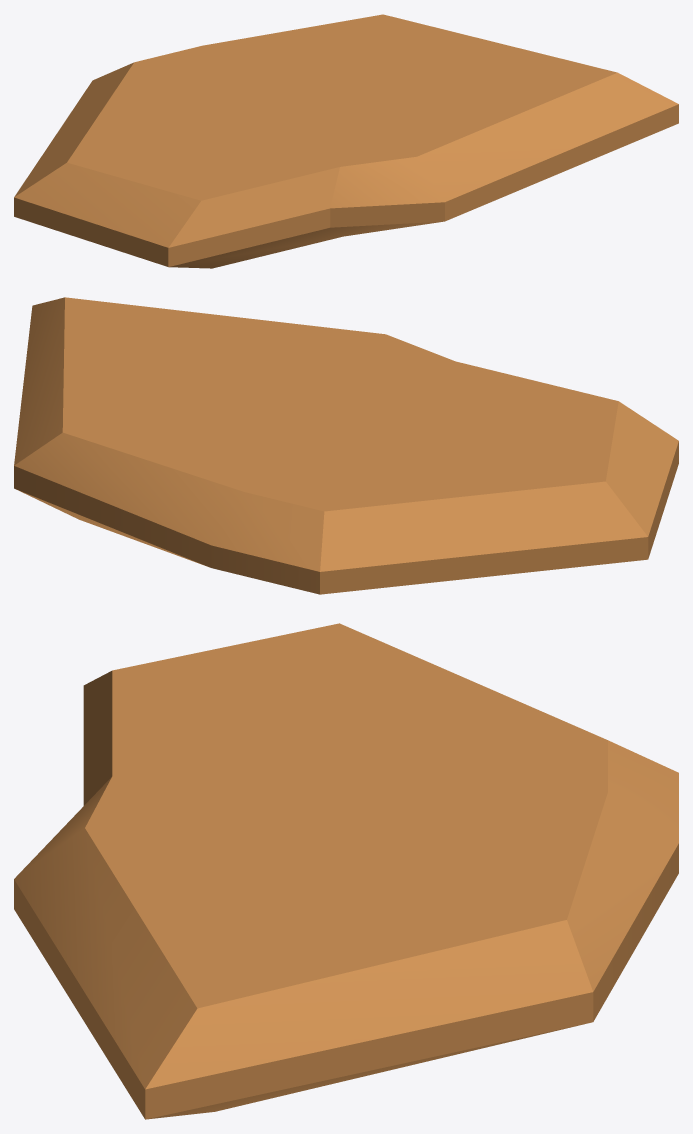
File: Rock_Medium_Dirt_05.fbx
The picture shows the model from 3 angles, top to bottom: view 1: azimuth 30°, elevation 25°; view 2: azimuth 150°, elevation 25°; view 3: azimuth 270°, elevation 25°; orthographic projection. The views are drawn at different scales.
Parts seen in each view (by area): view 1: Rock_Medium_Dirt_05; view 2: Rock_Medium_Dirt_05; view 3: Rock_Medium_Dirt_05.
Part boxes in pixels (x1=…): Rock_Medium_Dirt_05: x1=14, y1=14, x2=678, y2=268; Rock_Medium_Dirt_05: x1=14, y1=297, x2=678, y2=594; Rock_Medium_Dirt_05: x1=14, y1=623, x2=678, y2=1119.
Size of the model in its own units: 86.58 by 10.23 by 53.72.
